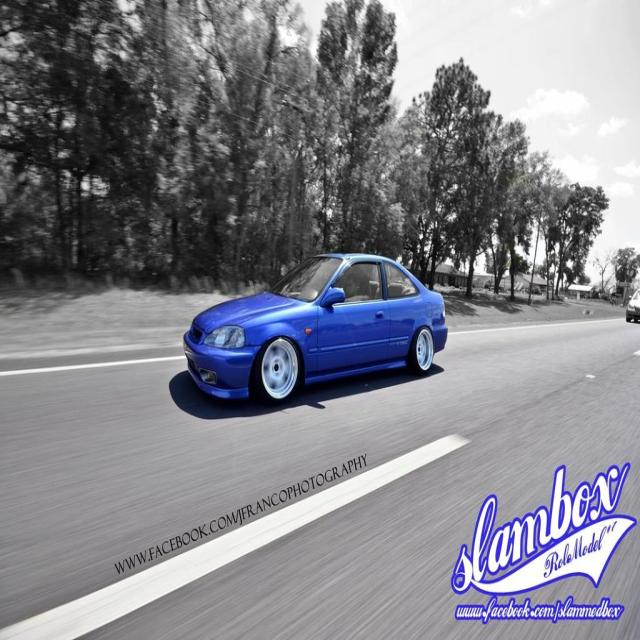car: (180, 249, 446, 407)
